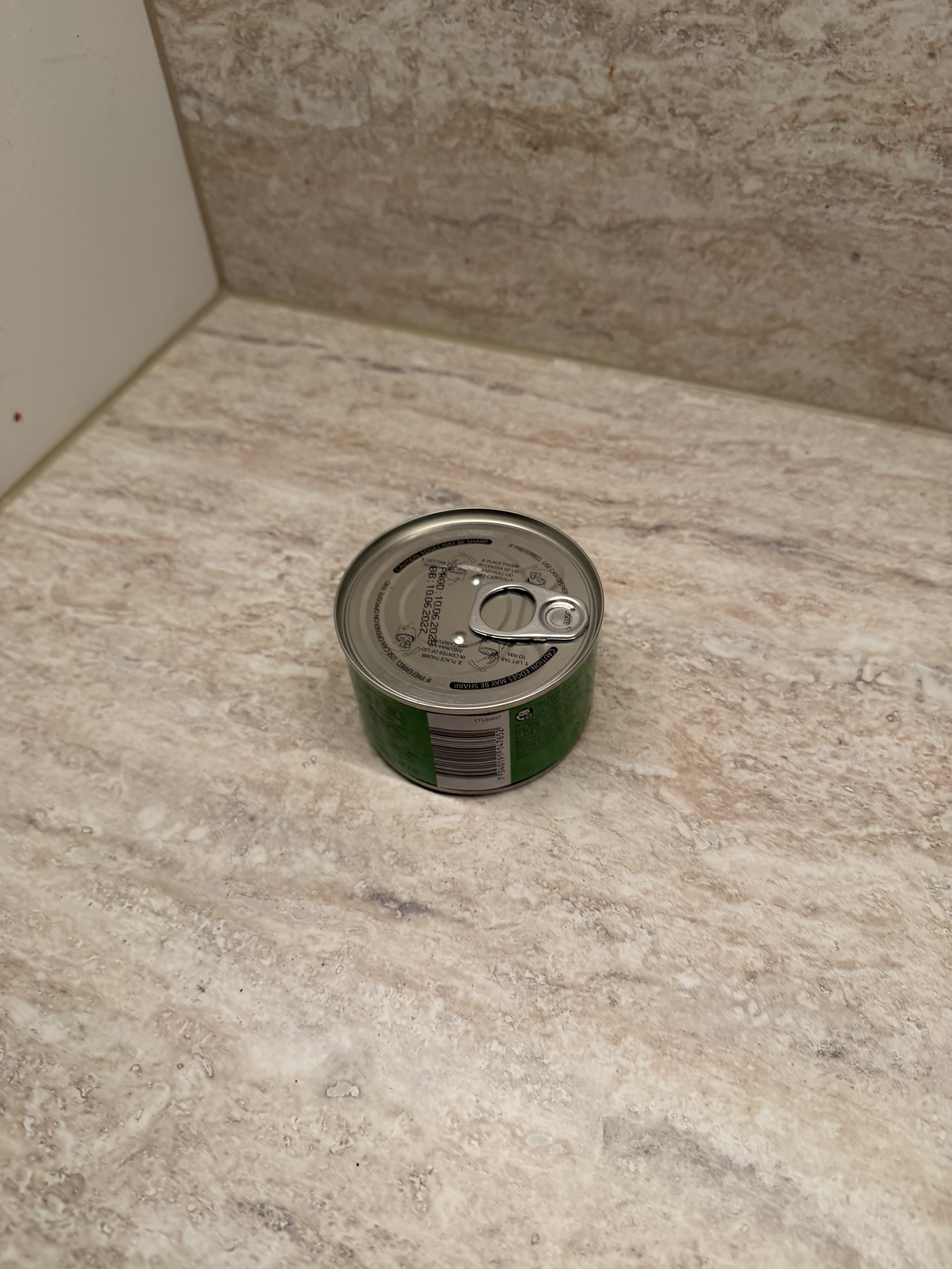Konservburk: (314, 511, 607, 799)
